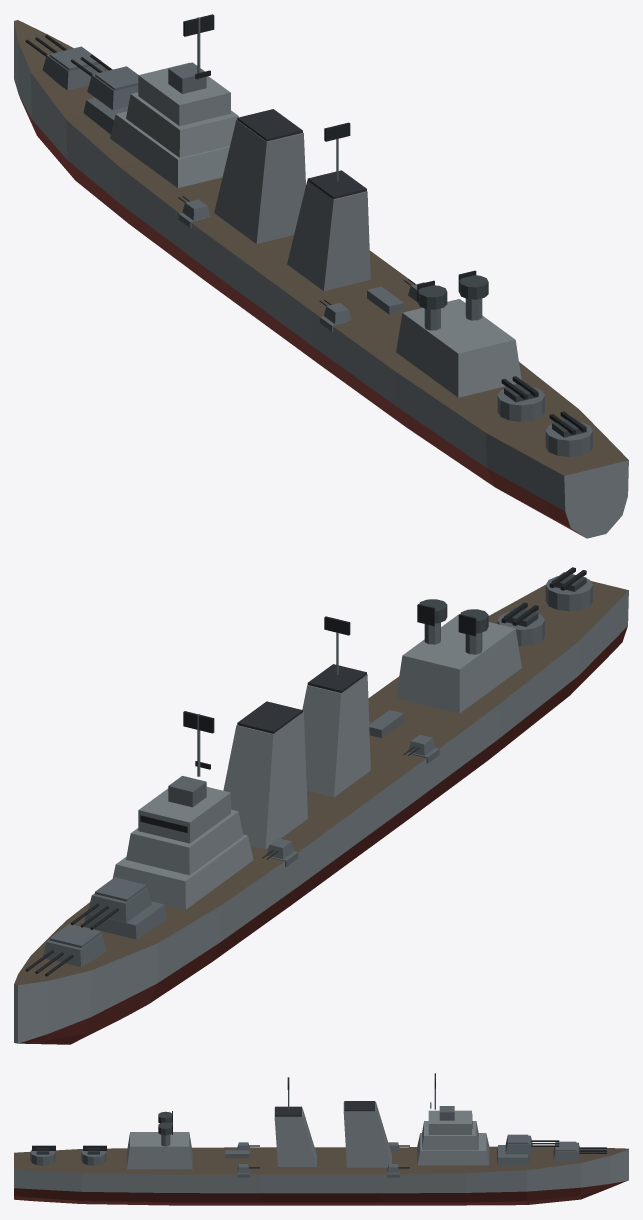
The model's file is boston.glb.
3 views of the same model, one above another, from view 1: azimuth 30°, elevation 25°; view 2: azimuth 150°, elevation 25°; view 3: azimuth 270°, elevation 25° (orthographic). The views are drawn at different scales.
Parts seen in each view (by area): view 1: Hull, Fwd funnel, Aft superstructure, Aft funnel, Bridge base, Bridge 2, Bridge 3, Fwd funnel cap, Terrier deckhouse, Terrier deckhouse.001, Aft funnel cap, 8in turret 1 house (+4 smaller); view 2: Hull, Fwd funnel, Aft superstructure, Aft funnel, Bridge base, Bridge 2, Bridge 3, Barbette 2, Fwd funnel cap, 8in turret 2 house, 8in turret 1 house, Terrier deckhouse.001 (+5 smaller); view 3: Hull, Fwd funnel, Aft superstructure, Aft funnel, Bridge base, Bridge 2, Bridge 3, Barbette 2, 8in turret 2 house, Fwd funnel cap, 8in turret 1 house, Terrier deckhouse.001 (+5 smaller).
Part boxes in pixels (left/top/right/bottom): Hull: left=14, top=20, right=628, bottom=538; Fwd funnel: left=214, top=119, right=305, bottom=243; Aft superstructure: left=396, top=299, right=521, bottom=397; Aft funnel: left=287, top=180, right=370, bottom=290; Bridge base: left=110, top=111, right=229, bottom=187; Bridge 2: left=126, top=92, right=238, bottom=157; Bridge 3: left=138, top=62, right=230, bottom=125; Fwd funnel cap: left=237, top=109, right=302, bottom=141; Terrier deckhouse: left=497, top=386, right=544, bottom=421; Terrier deckhouse.001: left=545, top=422, right=592, bottom=456; Aft funnel cap: left=307, top=170, right=366, bottom=199; 8in turret 1 house: left=42, top=54, right=104, bottom=90; Hull: left=14, top=581, right=628, bottom=1044; Fwd funnel: left=223, top=712, right=307, bottom=849; Aft superstructure: left=396, top=614, right=521, bottom=713; Aft funnel: left=302, top=674, right=370, bottom=797; Bridge base: left=112, top=834, right=253, bottom=909; Bridge 2: left=126, top=809, right=243, bottom=875; Bridge 3: left=138, top=787, right=230, bottom=843; Barbette 2: left=84, top=901, right=167, bottom=939; Fwd funnel cap: left=237, top=701, right=302, bottom=733; 8in turret 2 house: left=88, top=887, right=151, bottom=922; 8in turret 1 house: left=43, top=934, right=106, bottom=966; Terrier deckhouse.001: left=545, top=576, right=592, bottom=611; Hull: left=14, top=1146, right=628, bottom=1205; Fwd funnel: left=343, top=1102, right=391, bottom=1167; Aft superstructure: left=126, top=1132, right=192, bottom=1169; Aft funnel: left=274, top=1107, right=316, bottom=1166; Bridge base: left=417, top=1133, right=489, bottom=1165; Bridge 2: left=422, top=1121, right=478, bottom=1150; Bridge 3: left=428, top=1110, right=471, bottom=1134; Barbette 2: left=497, top=1145, right=529, bottom=1165; 8in turret 2 house: left=505, top=1135, right=532, bottom=1154; Fwd funnel cap: left=344, top=1101, right=375, bottom=1111; 8in turret 1 house: left=553, top=1142, right=580, bottom=1161; Terrier deckhouse.001: left=30, top=1149, right=55, bottom=1165.
Bounding box in the file's own units: 22 × 45.9 × 205.
